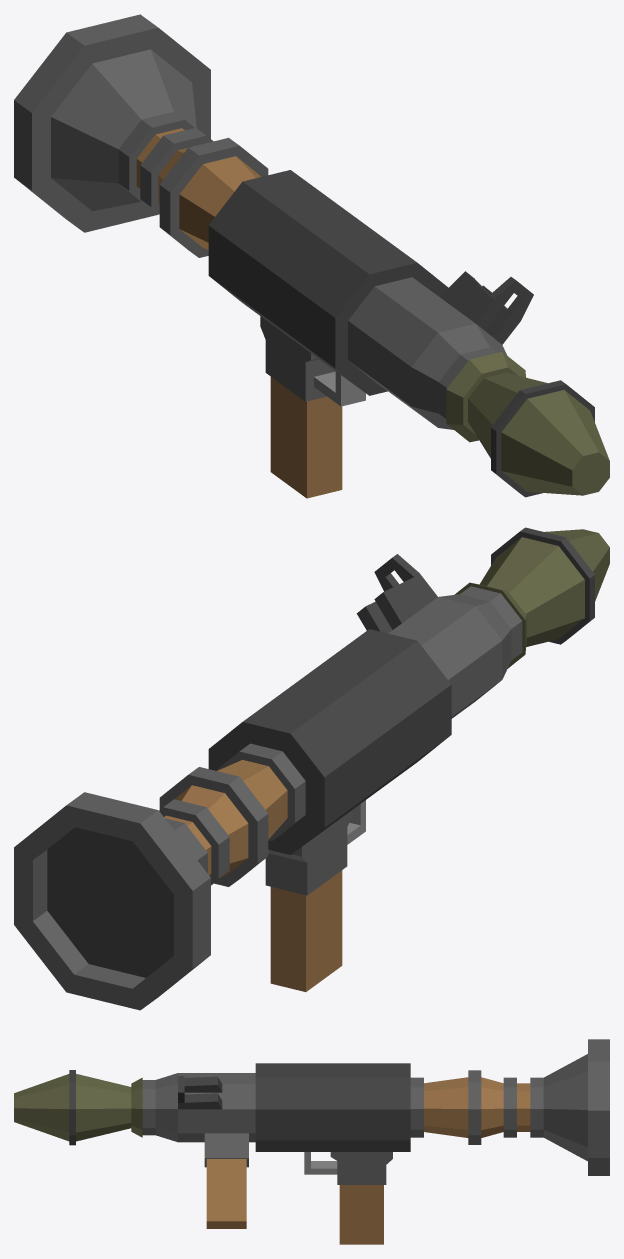
File: rocketlauncherSide.fbx
3 renders of one model, top to bottom at view 1: azimuth 30°, elevation 25°; view 2: azimuth 150°, elevation 25°; view 3: azimuth 270°, elevation 25°, orthographic. The views are drawn at different scales.
Visible parts, largest first — view 1: Mesh2_Group3 Group1 Model, Mesh1_Group2 Group1 Model; view 2: Mesh2_Group3 Group1 Model, Mesh1_Group2 Group1 Model; view 3: Mesh2_Group3 Group1 Model, Mesh1_Group2 Group1 Model.
Boxes of the visible parts, <box> form: Mesh2_Group3 Group1 Model: <box>14,14,533,498</box>; Mesh1_Group2 Group1 Model: <box>446,351,609,497</box>; Mesh2_Group3 Group1 Model: <box>14,554,522,1010</box>; Mesh1_Group2 Group1 Model: <box>454,527,609,668</box>; Mesh2_Group3 Group1 Model: <box>142,1039,609,1244</box>; Mesh1_Group2 Group1 Model: <box>14,1070,142,1145</box>.
Bounding box in the file's own units: 0.0432 × 0.0564 × 0.1614.
